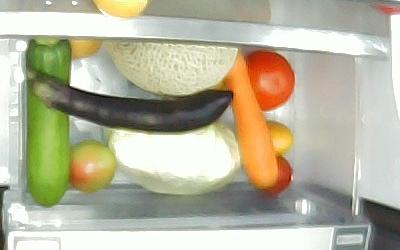cabbage: (108, 124, 241, 198)
carrot: (220, 47, 278, 190)
eggplant: (25, 67, 234, 133)
melon: (106, 37, 239, 94)
tangerine: (258, 119, 293, 154)
tomato: (239, 50, 294, 110), (68, 139, 116, 192)
zucchini: (25, 39, 71, 207)
